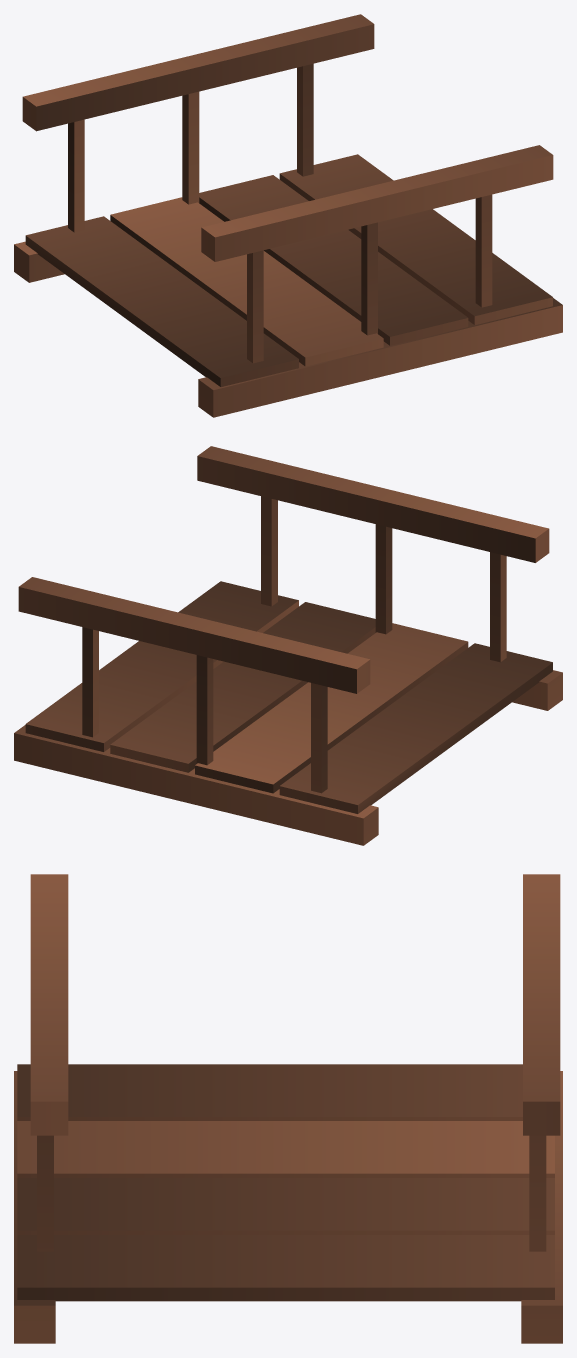
The model's file is BridgeMid.fbx.
The picture shows the model from 3 angles, top to bottom: view 1: azimuth 30°, elevation 25°; view 2: azimuth 150°, elevation 25°; view 3: azimuth 270°, elevation 25°; orthographic projection. The views are drawn at different scales.
Visible parts, largest first — view 1: BridgeMid_LOD0; view 2: BridgeMid_LOD0; view 3: BridgeMid_LOD0.
Boxes of the visible parts, x1,y1,x2,y2 form: BridgeMid_LOD0: [14, 14, 562, 417]; BridgeMid_LOD0: [14, 446, 562, 845]; BridgeMid_LOD0: [14, 874, 562, 1343].
Size of what is drawn, in the model's own units: 193 by 91.84 by 191.
